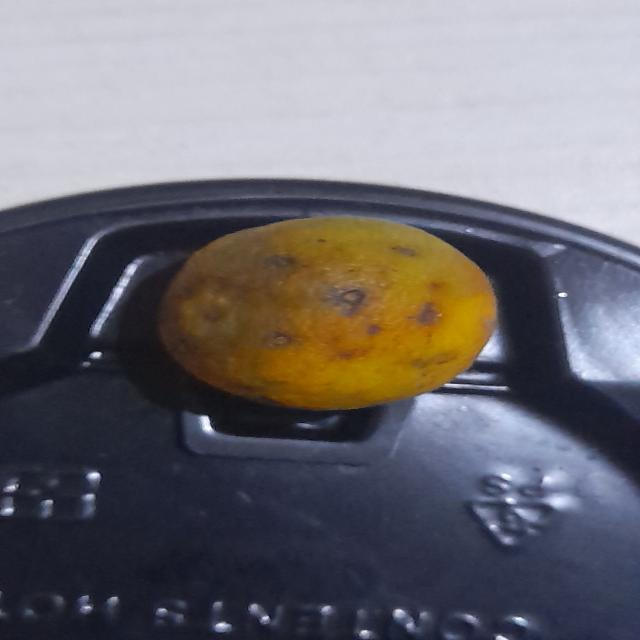black spot: (161, 210, 503, 414)
